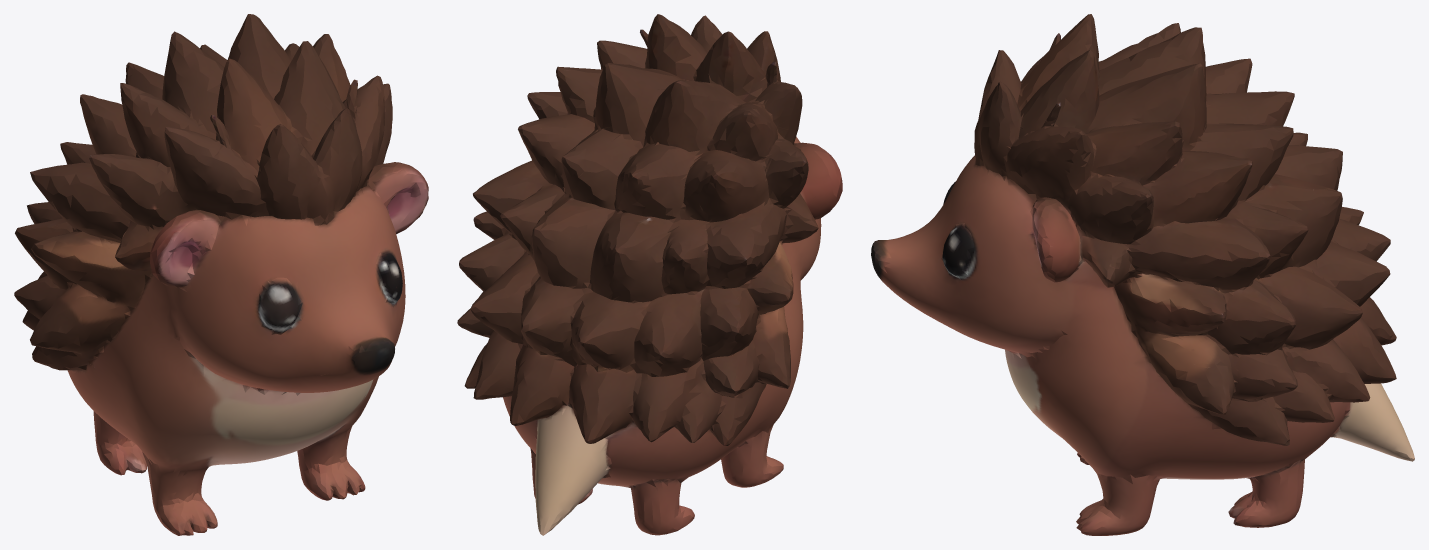
The model's file is hedgehog.glb.
The picture shows the model from 3 angles, left to right: view 1: azimuth 30°, elevation 25°; view 2: azimuth 150°, elevation 25°; view 3: azimuth 270°, elevation 25°; orthographic projection. The views are drawn at different scales.
Parts seen in each view (by area): view 1: hedgehog; view 2: hedgehog; view 3: hedgehog.
Part boxes in pixels (box(x1,y1,x2,y2)): hedgehog: box(14, 14, 428, 535); hedgehog: box(457, 14, 842, 535); hedgehog: box(871, 14, 1414, 535).
Bounding box in the file's own units: 1.36 × 1.77 × 1.9.
1 material, 1 textured.
